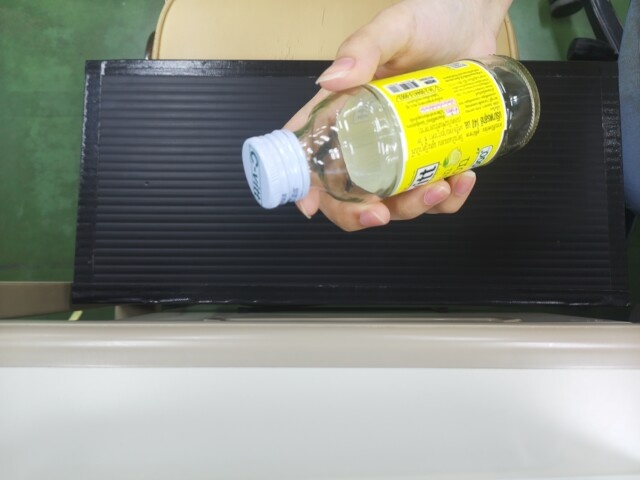glass_bottle: (236, 68, 539, 204)
